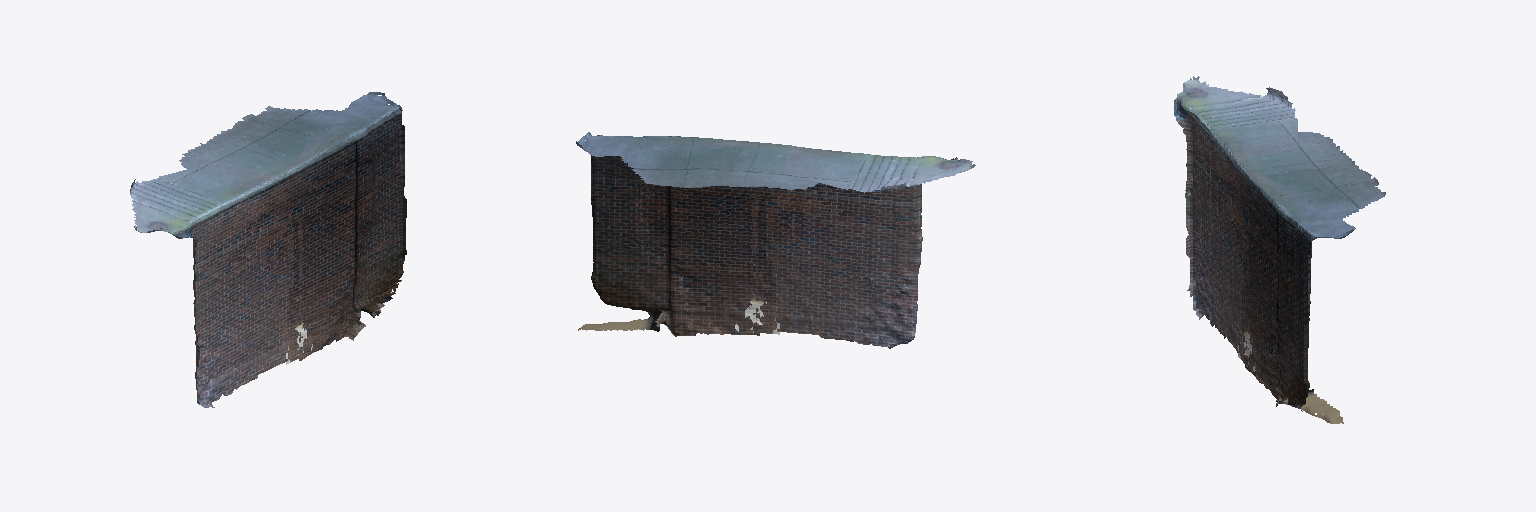
3 renders of one model, left to right at view 1: azimuth 30°, elevation 25°; view 2: azimuth 150°, elevation 25°; view 3: azimuth 270°, elevation 25°, orthographic.
Size of the model in its own units: 7.19 by 4.48 by 4.06.
1 materials, 1 textured.